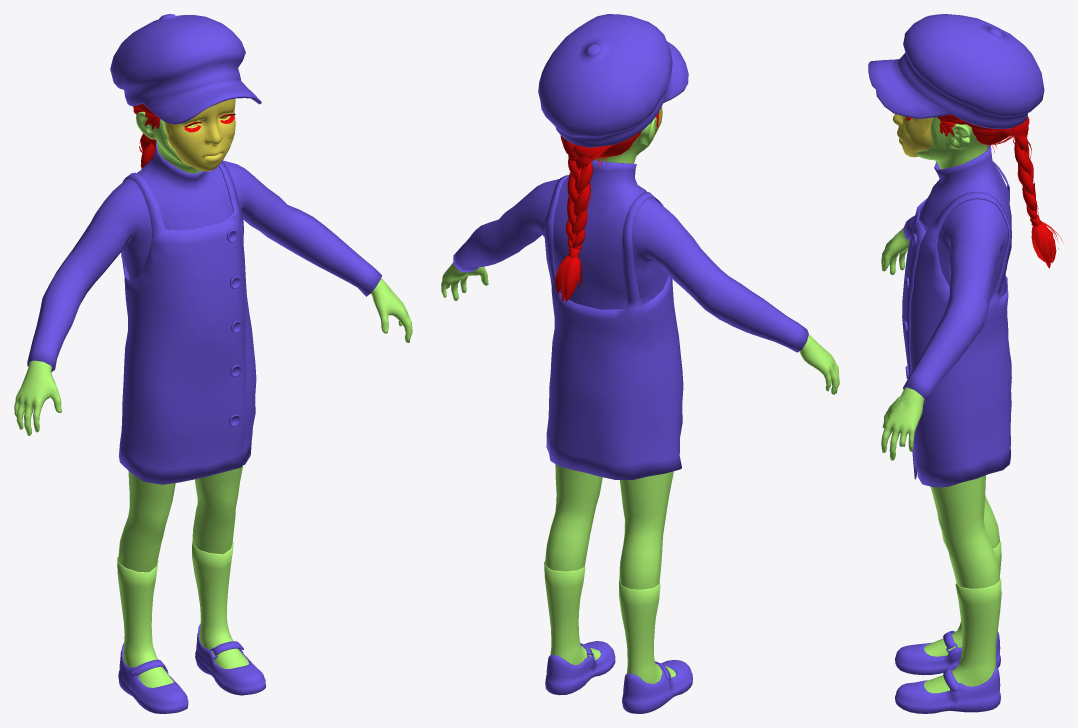
Rendered from trickster (base) model.fbx.
The picture shows the model from 3 angles, left to right: view 1: azimuth 30°, elevation 25°; view 2: azimuth 150°, elevation 25°; view 3: azimuth 270°, elevation 25°; orthographic projection.
Visible parts, largest first — view 1: trickster pinafore retopo, trickster long sleaves retopo, trickster hat retopo, trickster socks retopo, trickster legs retopo, trickster shoes retopo.001, trickster hands retopo, trickster face retopo, trickster head retopo; view 2: trickster pinafore retopo, trickster long sleaves retopo, trickster hat retopo, trickster legs retopo, trickster socks retopo, trickster shoes retopo.001, hair tail, trickster hands retopo, hair tail end, trickster head retopo; view 3: trickster pinafore retopo, trickster hat retopo, trickster long sleaves retopo, trickster legs retopo, trickster socks retopo, trickster shoes retopo.001, trickster hands retopo, trickster head retopo, hair tail, trickster face retopo, head hair, hair tail end (+1 smaller).
Boxes of the visible parts, bbox=[...] form: trickster pinafore retopo: bbox=[118, 161, 256, 484]; trickster long sleaves retopo: bbox=[27, 140, 382, 372]; trickster hat retopo: bbox=[110, 14, 261, 124]; trickster socks retopo: bbox=[117, 542, 248, 687]; trickster legs retopo: bbox=[118, 465, 243, 572]; trickster shoes retopo.001: bbox=[118, 623, 265, 713]; trickster hands retopo: bbox=[14, 278, 412, 435]; trickster face retopo: bbox=[164, 98, 235, 171]; trickster head retopo: bbox=[136, 111, 226, 173]; trickster pinafore retopo: bbox=[544, 175, 683, 479]; trickster long sleaves retopo: bbox=[453, 159, 808, 352]; trickster hat retopo: bbox=[538, 14, 688, 147]; trickster legs retopo: bbox=[545, 464, 673, 589]; trickster socks retopo: bbox=[544, 562, 675, 683]; trickster shoes retopo.001: bbox=[545, 641, 692, 713]; hair tail: bbox=[560, 135, 613, 249]; trickster hands retopo: bbox=[441, 262, 839, 394]; hair tail end: bbox=[554, 255, 582, 301]; trickster head retopo: bbox=[595, 117, 656, 163]; trickster pinafore retopo: bbox=[902, 161, 1011, 487]; trickster hat retopo: bbox=[868, 14, 1044, 128]; trickster long sleaves retopo: bbox=[903, 145, 1011, 403]; trickster legs retopo: bbox=[930, 475, 1000, 588]; trickster socks retopo: bbox=[924, 542, 1001, 693]; trickster shoes retopo.001: bbox=[895, 631, 1000, 713]; trickster hands retopo: bbox=[881, 228, 924, 460]; trickster head retopo: bbox=[916, 117, 988, 169]; hair tail: bbox=[1001, 116, 1038, 220]; trickster face retopo: bbox=[892, 114, 932, 157]; head hair: bbox=[937, 114, 1013, 153]; hair tail end: bbox=[1031, 222, 1062, 268].
Bounding box in the file's own units: 69.46 × 112 × 29.93.
